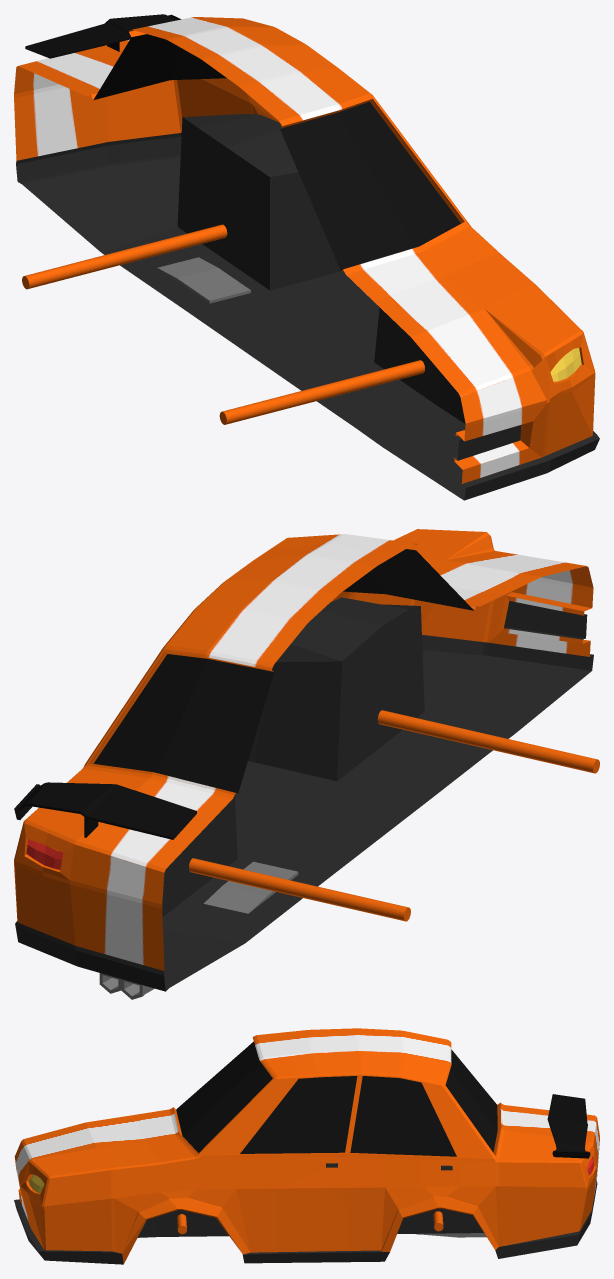
The model's file is Sports car.glb.glb.
3 renders of one model, top to bottom at view 1: azimuth 30°, elevation 25°; view 2: azimuth 150°, elevation 25°; view 3: azimuth 270°, elevation 25°, orthographic. The views are drawn at different scales.
Parts seen in each view (by area): view 1: Car; view 2: Car; view 3: Car.
Part boxes in pixels (box(x1,y1,x2,y2)): Car: box(14, 14, 599, 500); Car: box(14, 529, 599, 999); Car: box(14, 1028, 599, 1264).
Size of the model in its own units: 2.57 by 2.33 by 6.45.
Materials: 7 (1 with a texture image).
